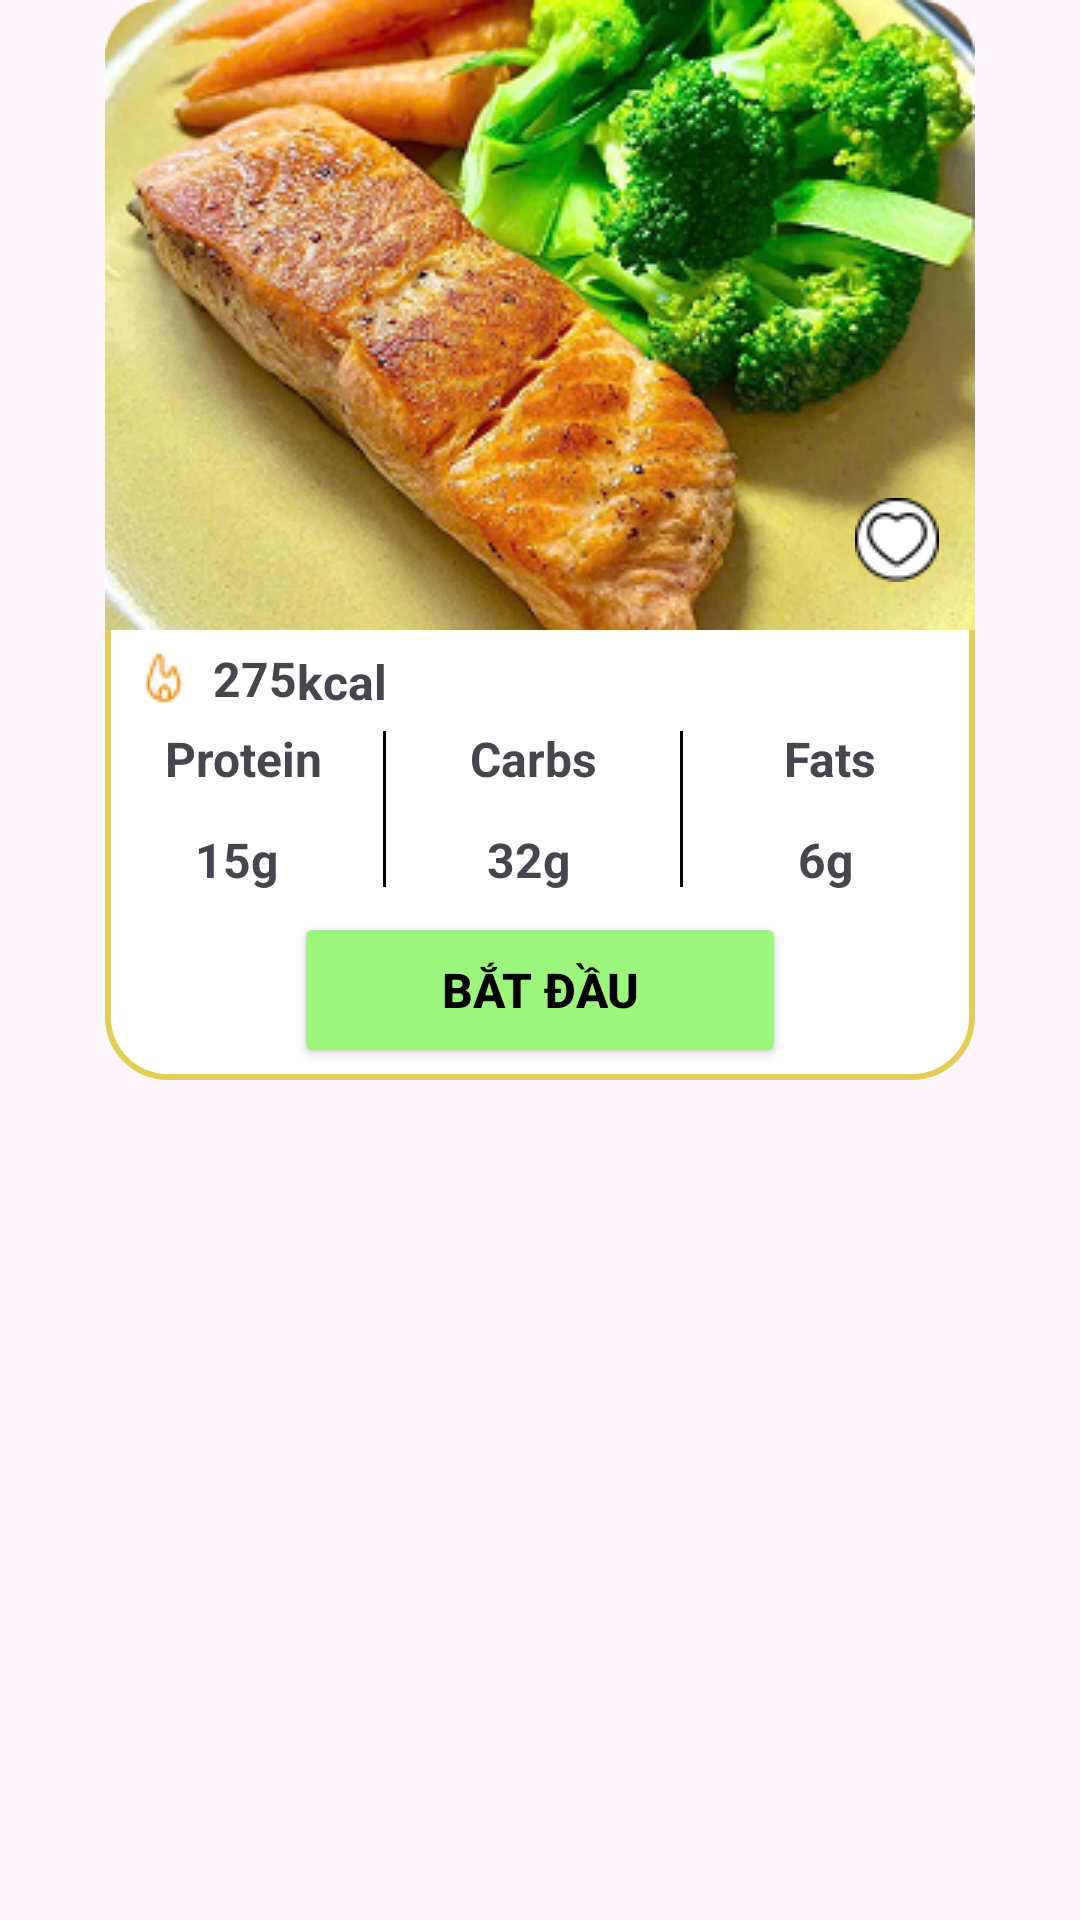

Screen size 1080w x 1920h. Icon name, then its center in pixels as point (x, y):
lets calories: point (164, 678)
stash heart: point (897, 540)
